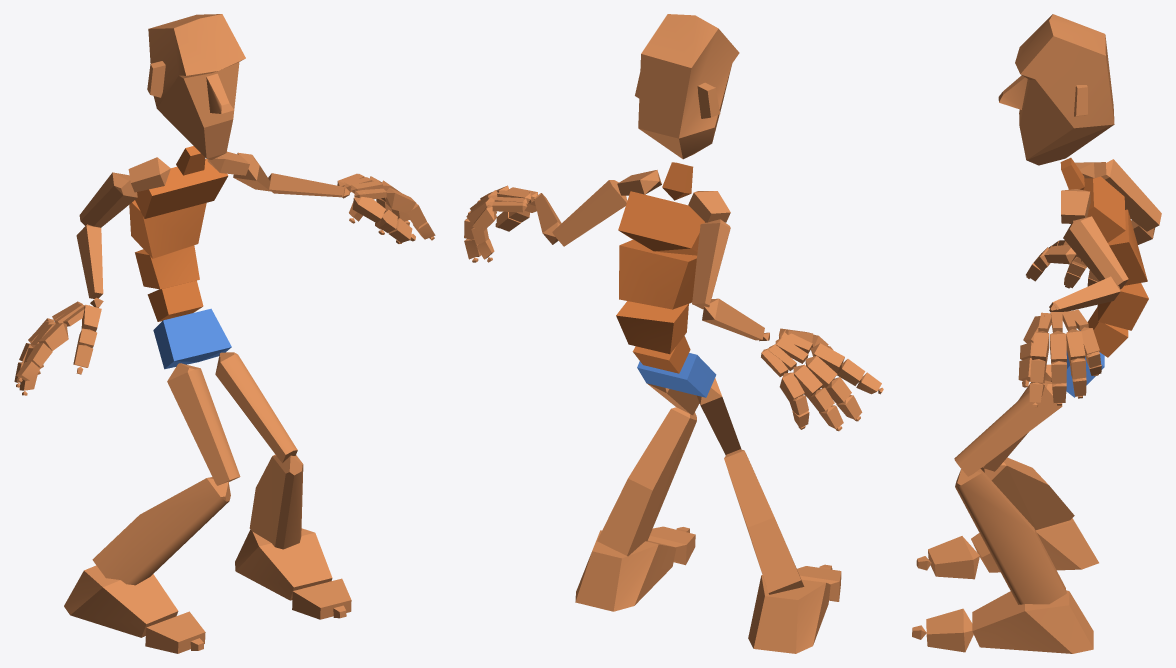
Rendered from prueba322.obj.
The picture shows the model from 3 angles, left to right: view 1: azimuth 30°, elevation 25°; view 2: azimuth 150°, elevation 25°; view 3: azimuth 270°, elevation 25°; orthographic projection. The views are drawn at different scales.
Parts seen in each view (by area): view 1: BOPED_Head, BOPED_R_leg, BOPED_R_foot, BOPED_R_foot01, BOPED_L_leg, BOPED_R_legup, Bone01, BOPED_L_legup, Bone04, Bone05, Bone03, BOPED_R_arm_upper (+9 smaller); view 2: BOPED_Head, BOPED_L_leg, BOPED_R_foot01, BOPED_R_foot, BOPED_R_leg, Bone04, Bone05, Bone03, BOPED_R_arm_upper, BOPED_L_arm_upper, Bone01, BOPED_R_legup (+9 smaller); view 3: BOPED_Head, BOPED_L_leg, BOPED_R_foot01, BOPED_L_legup, BOPED_R_leg, BOPED_R_foot, BOPED_L_arm_upper, Bone05, BOPED_R_arm_upper, BOPED_R_foot_toe01, BOPED_R_foot_toe04, Bone03 (+12 smaller).
Boxes of the visible parts, x1,y1,x2,y2 form: BOPED_Head: (147, 14, 245, 159); BOPED_R_leg: (92, 477, 230, 585); BOPED_R_foot: (64, 565, 178, 637); BOPED_R_foot01: (235, 528, 332, 600); BOPED_L_leg: (249, 454, 303, 549); BOPED_R_legup: (167, 363, 240, 485); Bone01: (153, 308, 231, 369); BOPED_L_legup: (215, 352, 297, 462); Bone04: (129, 200, 206, 258); Bone05: (135, 159, 228, 218); Bone03: (135, 245, 199, 289); BOPED_R_arm_upper: (79, 172, 137, 227); BOPED_Head: (635, 14, 739, 159); BOPED_L_leg: (597, 407, 696, 556); BOPED_R_foot01: (575, 530, 676, 611); BOPED_R_foot: (748, 575, 830, 653); BOPED_R_leg: (724, 449, 804, 594); Bone04: (619, 240, 696, 309); Bone05: (618, 191, 705, 255); Bone03: (616, 301, 688, 354); BOPED_R_arm_upper: (692, 219, 730, 309); BOPED_L_arm_upper: (552, 180, 627, 246); Bone01: (637, 353, 716, 397); BOPED_R_legup: (697, 378, 741, 455); BOPED_Head: (998, 14, 1114, 165); BOPED_L_leg: (955, 469, 1066, 604); BOPED_R_foot01: (972, 590, 1093, 653); BOPED_L_legup: (954, 380, 1062, 476); BOPED_R_leg: (980, 457, 1074, 530); BOPED_R_foot: (971, 518, 1098, 572); BOPED_L_arm_upper: (1063, 216, 1128, 289); Bone05: (1083, 176, 1125, 242); BOPED_R_arm_upper: (1101, 159, 1161, 231); BOPED_R_foot_toe01: (928, 536, 979, 579); BOPED_R_foot_toe04: (926, 608, 973, 652); Bone03: (1097, 283, 1148, 330).
Size of the model in its own units: 130 by 175 by 67.84.
